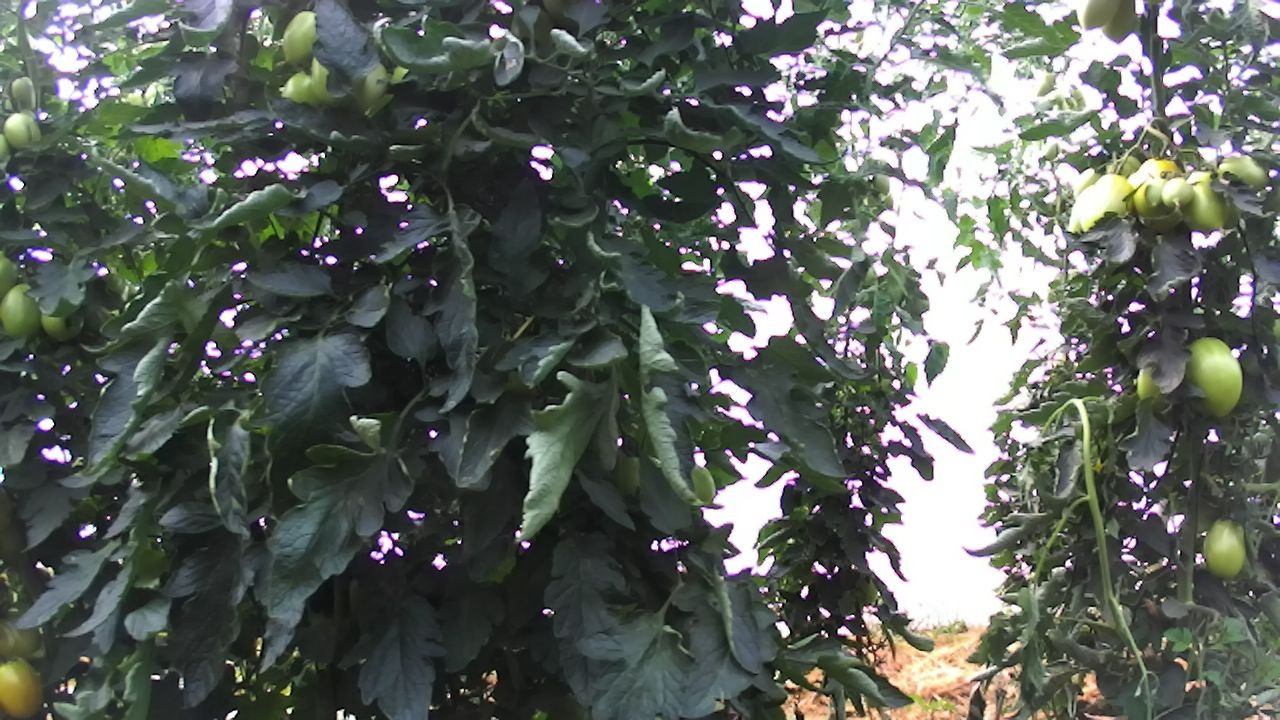tomato: (1181, 333, 1246, 419), (0, 653, 47, 720), (1201, 514, 1247, 582), (0, 280, 46, 341), (1214, 152, 1272, 194), (277, 8, 319, 66), (0, 108, 44, 150), (1072, 0, 1123, 32), (1160, 174, 1197, 210), (9, 71, 39, 112)
